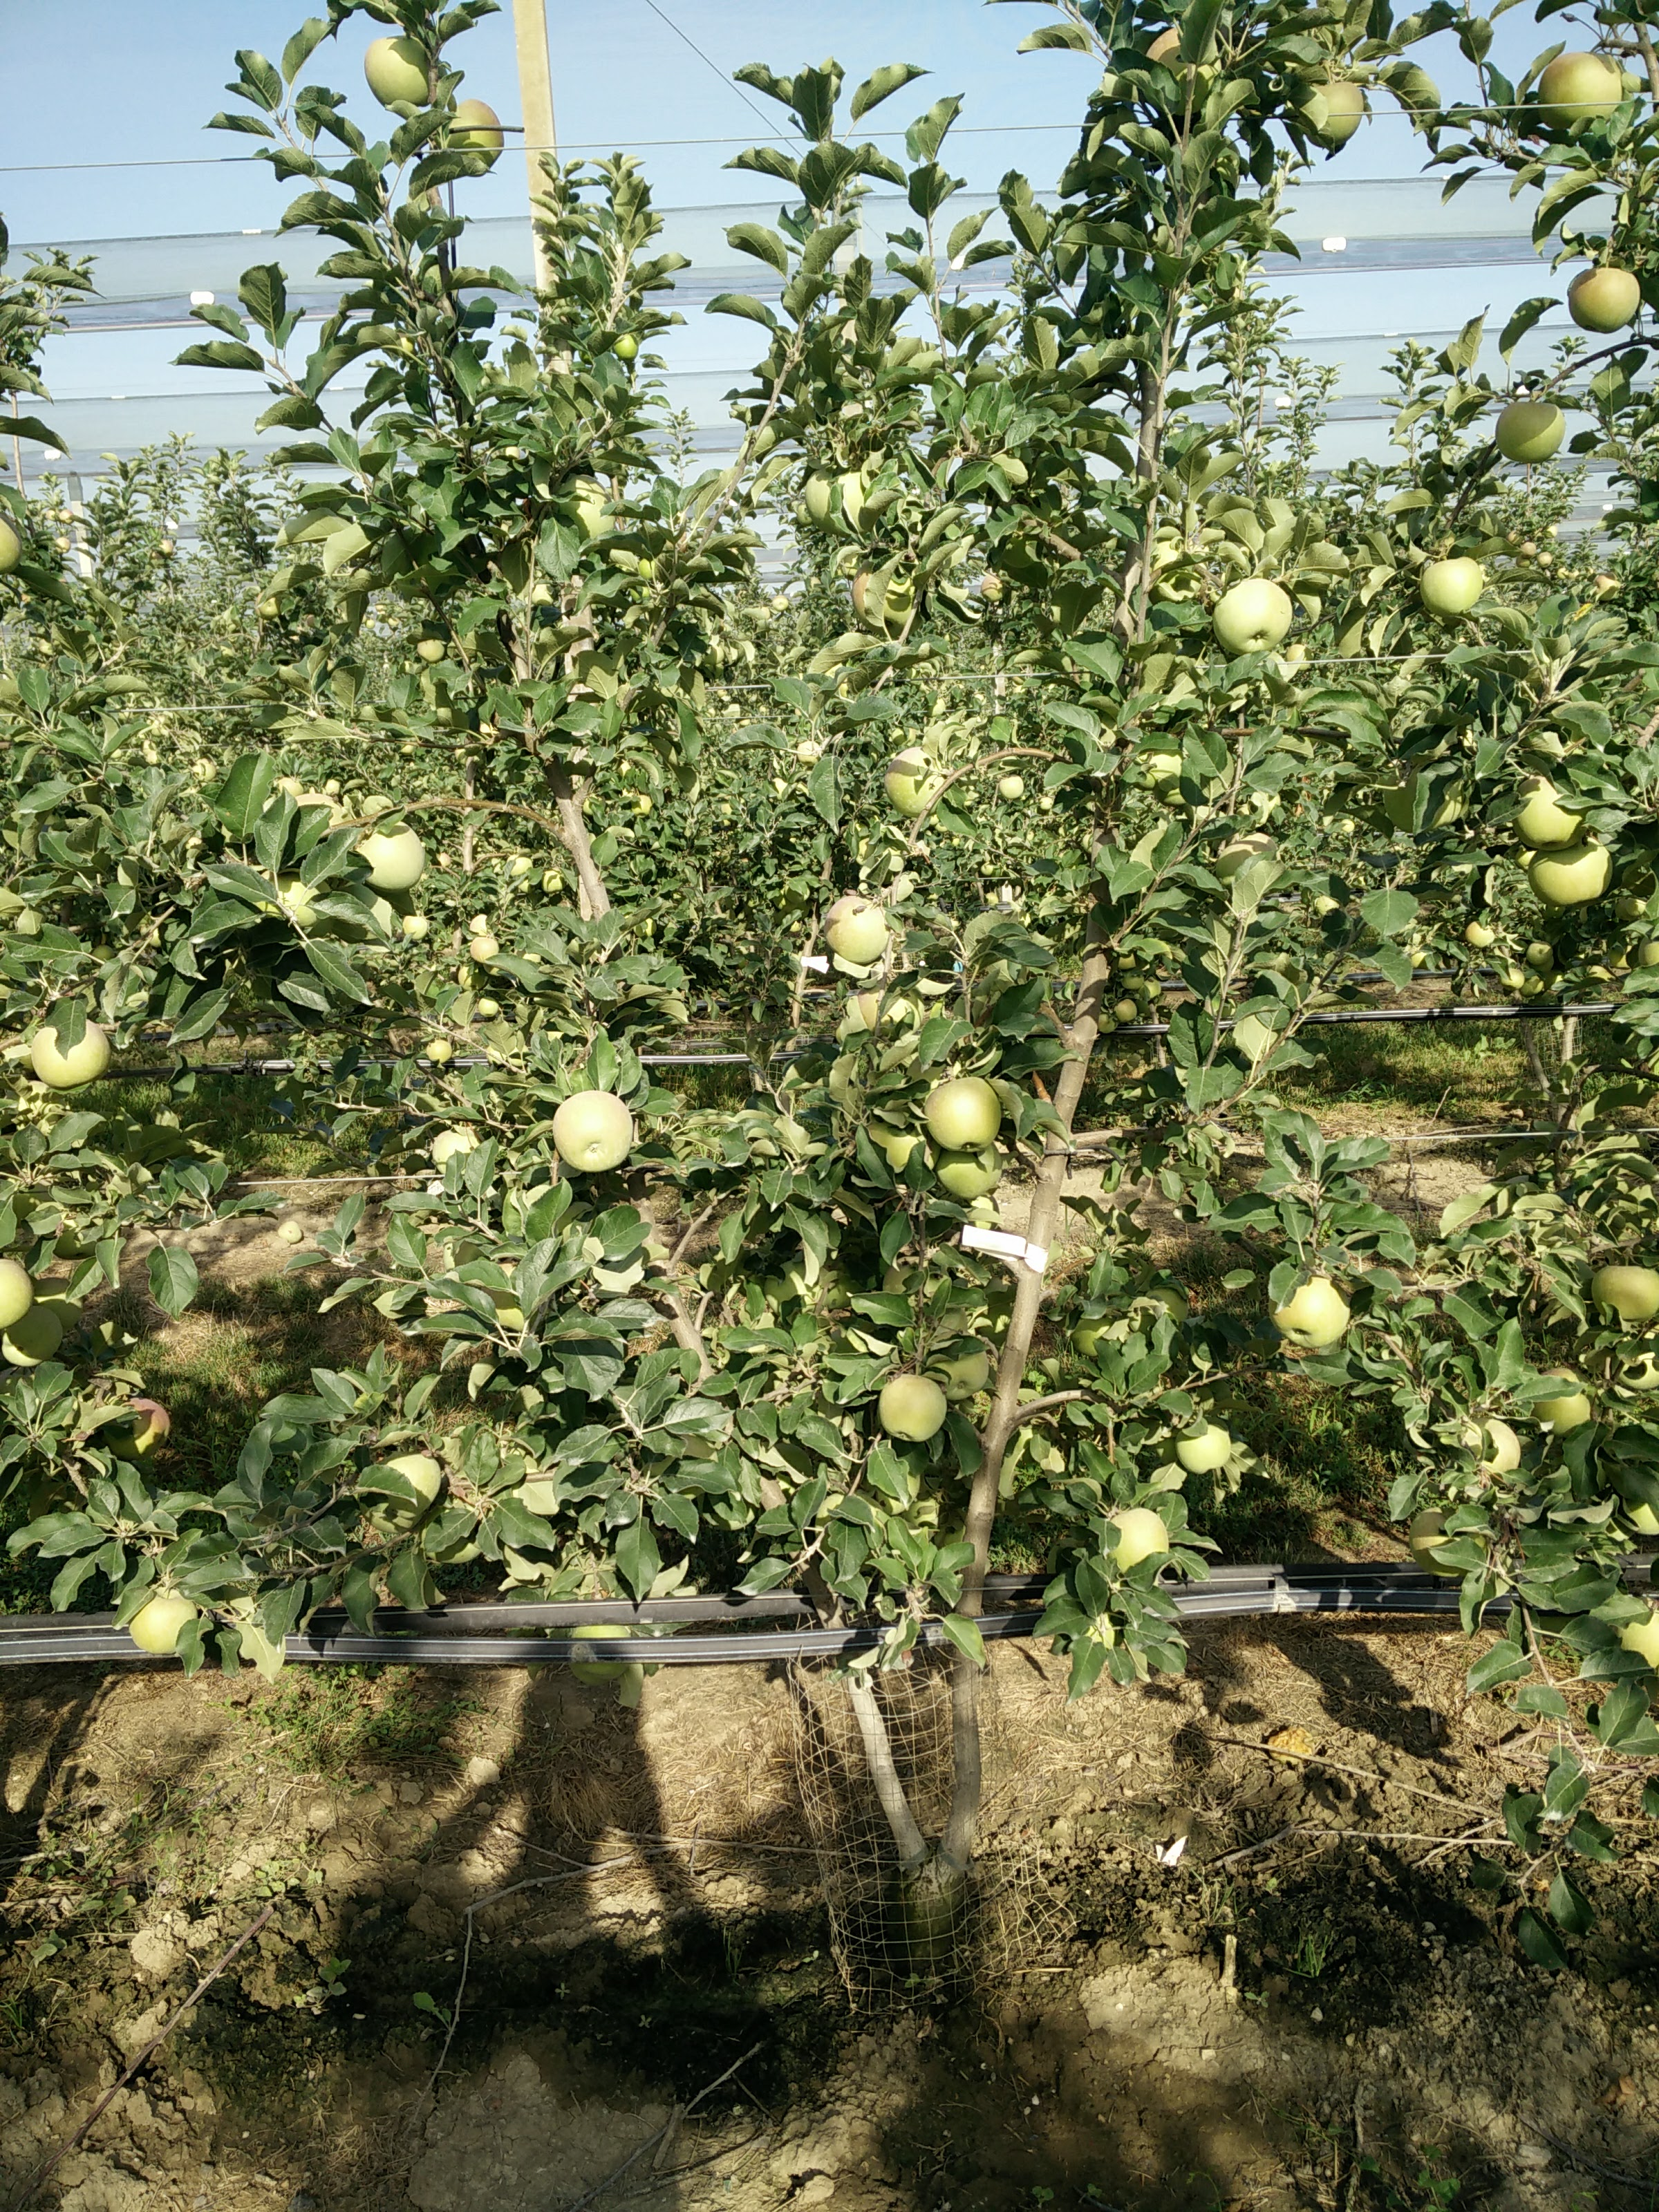apple: (549, 1085, 635, 1171), (1266, 1263, 1352, 1348), (1212, 574, 1293, 660), (1508, 769, 1592, 850), (919, 1073, 1002, 1153), (1539, 49, 1619, 126), (348, 816, 429, 894), (1529, 831, 1615, 903), (26, 1019, 112, 1090), (1094, 1506, 1172, 1581), (433, 100, 508, 178), (121, 1584, 203, 1654), (1408, 1501, 1480, 1582), (1563, 262, 1640, 332), (364, 35, 434, 107), (822, 894, 896, 964), (875, 1374, 949, 1440), (883, 744, 952, 816), (1586, 1262, 1659, 1326), (1494, 399, 1568, 462), (1419, 554, 1486, 618)
